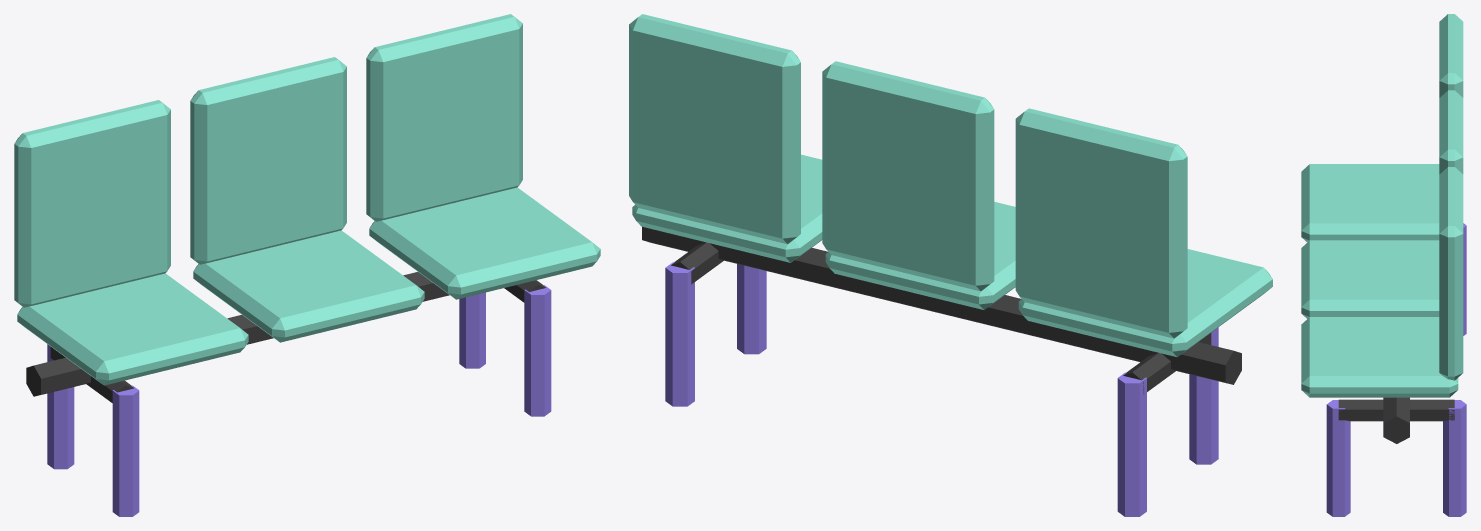
3 views of the same model, side by side, from view 1: azimuth 30°, elevation 25°; view 2: azimuth 150°, elevation 25°; view 3: azimuth 270°, elevation 25° (orthographic). The views are drawn at different scales.
Visible parts, largest first — view 1: Back.002, Back, Back.001, Seat.002, Seat, Seat.001, Leg.002, Leg, Cross beam, Leg.001, Leg.003; view 2: Back.001, Back, Back.002, Cross beam, Seat, Seat.001, Seat.002, Leg.001, Leg.003, Leg, Leg.002, Leg cross member (+1 smaller); view 3: Seat.002, Seat.001, Seat, Back.002, Leg.002, Leg.003, Leg cross member.001, Back.001, Back, Cross beam, Leg.001.
Part boxes in pixels (x1,y1,x2,y2): Back.002: (366,14,522,221); Back: (14,100,170,307); Back.001: (190,57,346,264); Seat.002: (369,187,600,299); Seat: (17,273,248,385); Seat.001: (193,230,424,342); Leg.002: (524,285,551,416); Leg: (112,385,139,516); Cross beam: (26,272,449,396); Leg.001: (47,344,74,469); Leg.003: (459,292,485,368); Back.001: (822,61,994,291); Back: (1015,108,1187,338); Back.002: (629,14,800,244); Cross beam: (642,226,1241,384); Seat: (1018,249,1272,357); Seat.001: (825,202,1015,309); Seat.002: (632,154,822,262); Leg.001: (1117,372,1146,516); Leg.003: (665,262,694,406); Leg: (1189,327,1218,464); Leg.002: (737,264,766,354); Leg cross member: (1123,333,1211,394); Seat.002: (1301,317,1458,397); Seat.001: (1301,240,1439,318); Seat: (1301,164,1439,242); Back.002: (1439,167,1463,380); Leg.002: (1326,400,1350,516); Leg.003: (1443,400,1466,516); Leg cross member.001: (1338,399,1454,421); Back.001: (1439,90,1463,174); Back: (1439,14,1463,97); Cross beam: (1383,397,1409,443); Leg.001: (1463,223,1466,335).
Size of the model in its own units: 160 by 98 by 48.5.
